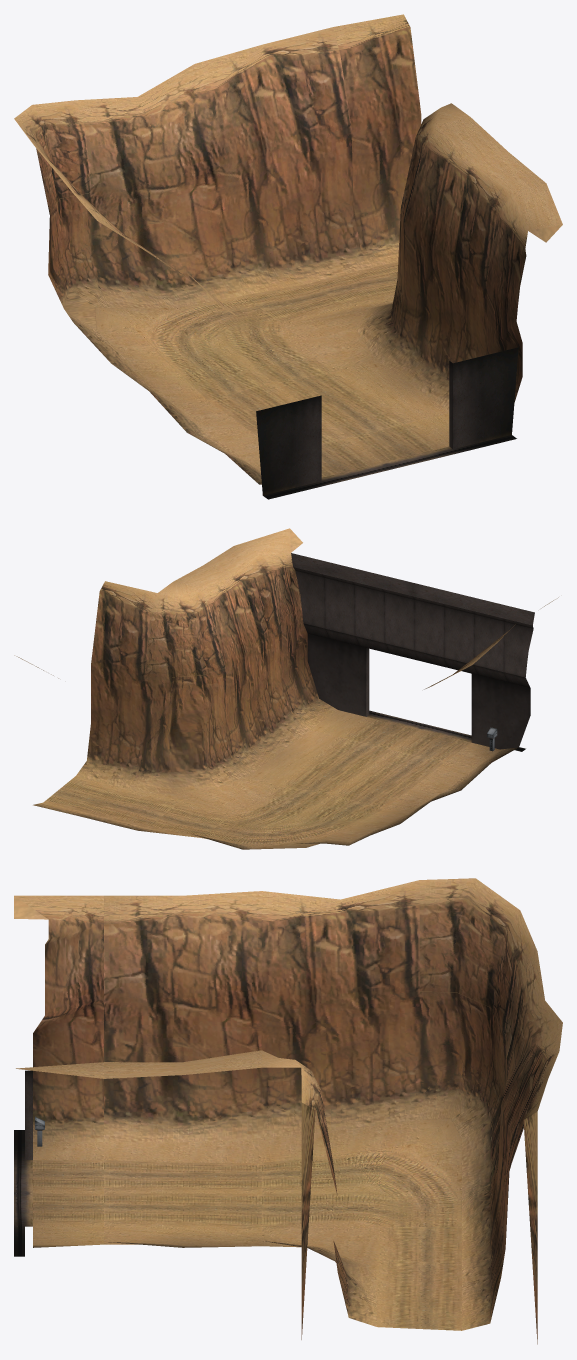
Rendered from Zone04B.glb.
3 views of the same model, one above another, from view 1: azimuth 30°, elevation 25°; view 2: azimuth 150°, elevation 25°; view 3: azimuth 270°, elevation 25° (orthographic). The views are drawn at different scales.
Parts seen in each view (by area): view 1: ZONE04B013, ZONE04B012, ZONE04B002, ZONE04B005, ZONE04B014, ZONE04B008, ZONE04B001, ZONE04B004, ZONE04B009, ZONE04B, ZONE04B007, ZONE04B011 (+2 smaller); view 2: ZONE04B002, ZONE04B005, ZONE04B001, ZONE04B, ZONE04B010, ZONE04B009, ZONE04B004, ZONE04B008, ZONE04B006, ZONE04B003, ZONE04B007; view 3: ZONE04B007, ZONE04B003, ZONE04B, ZONE04B008, ZONE04B001, ZONE04B004, ZONE04B009, ZONE04B013, ZONE04B010, ZONE04B011, ZONE04B012, ZONE04B002 (+3 smaller).
Part boxes in pixels (left/top/right/bottom): ZONE04B013: left=194, top=27, right=360, bottom=270; ZONE04B012: left=75, top=64, right=229, bottom=290; ZONE04B002: left=377, top=152, right=562, bottom=452; ZONE04B005: left=339, top=103, right=507, bottom=385; ZONE04B014: left=333, top=14, right=421, bottom=250; ZONE04B008: left=98, top=270, right=353, bottom=383; ZONE04B001: left=246, top=361, right=511, bottom=484; ZONE04B004: left=190, top=328, right=411, bottom=427; ZONE04B009: left=229, top=250, right=396, bottom=328; ZONE04B: left=143, top=249, right=326, bottom=499; ZONE04B007: left=14, top=105, right=169, bottom=367; ZONE04B011: left=32, top=100, right=97, bottom=288; ZONE04B002: left=204, top=528, right=371, bottom=760; ZONE04B005: left=145, top=565, right=280, bottom=788; ZONE04B001: left=308, top=570, right=471, bottom=786; ZONE04B: left=414, top=595, right=558, bottom=791; ZONE04B010: left=33, top=615, right=149, bottom=817; ZONE04B009: left=85, top=734, right=232, bottom=837; ZONE04B004: left=215, top=752, right=413, bottom=825; ZONE04B008: left=192, top=789, right=368, bottom=849; ZONE04B006: left=91, top=581, right=157, bottom=664; ZONE04B003: left=353, top=643, right=496, bottom=826; ZONE04B007: left=296, top=824, right=399, bottom=847; ZONE04B007: left=340, top=878, right=519, bottom=1165; ZONE04B003: left=183, top=891, right=340, bottom=1162; ZONE04B: left=14, top=895, right=182, bottom=1162; ZONE04B008: left=300, top=1124, right=490, bottom=1247; ZONE04B001: left=14, top=1160, right=182, bottom=1255; ZONE04B004: left=183, top=1159, right=379, bottom=1247; ZONE04B009: left=309, top=1211, right=490, bottom=1312; ZONE04B013: left=490, top=1023, right=562, bottom=1288; ZONE04B010: left=322, top=1101, right=490, bottom=1330; ZONE04B011: left=466, top=899, right=537, bottom=1123; ZONE04B012: left=490, top=951, right=562, bottom=1209; ZONE04B002: left=14, top=1062, right=182, bottom=1256.
Bounding box in the file's own units: 26.76 × 14.24 × 27.84.
Materials: 13 (13 with a texture image).
